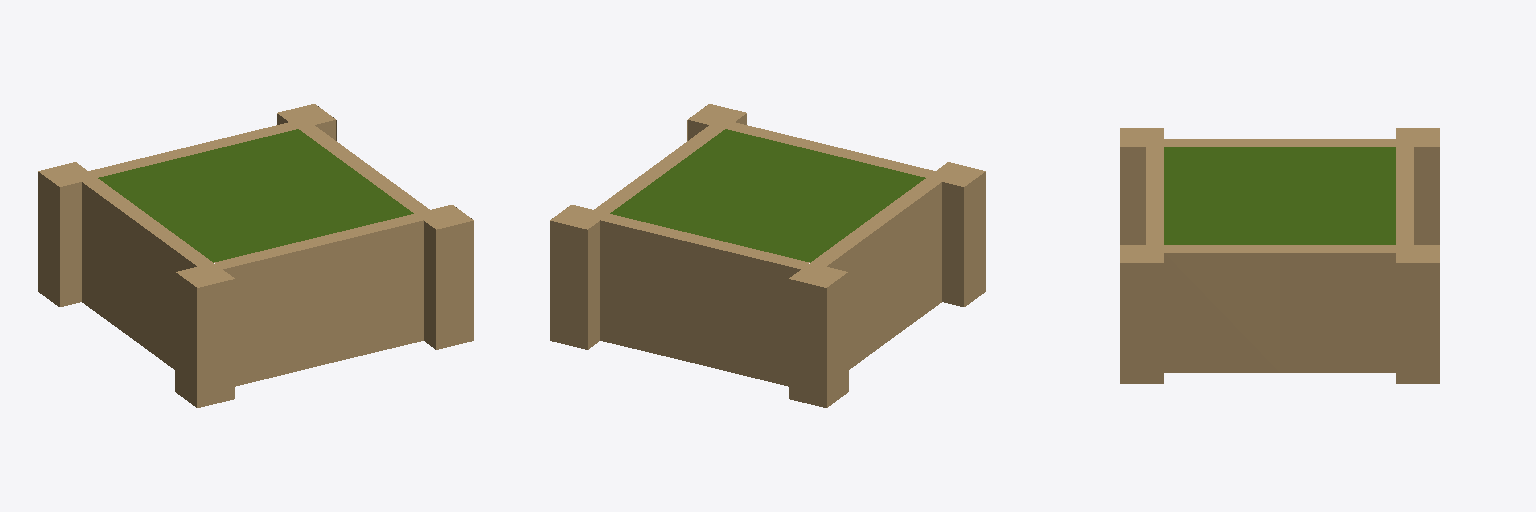
The picture shows the model from 3 angles: view 1: azimuth 30°, elevation 25°; view 2: azimuth 150°, elevation 25°; view 3: azimuth 270°, elevation 25°; orthographic projection.
Bounding box in the file's own units: 5.11 × 2.12 × 5.1.
1 materials, 1 textured.